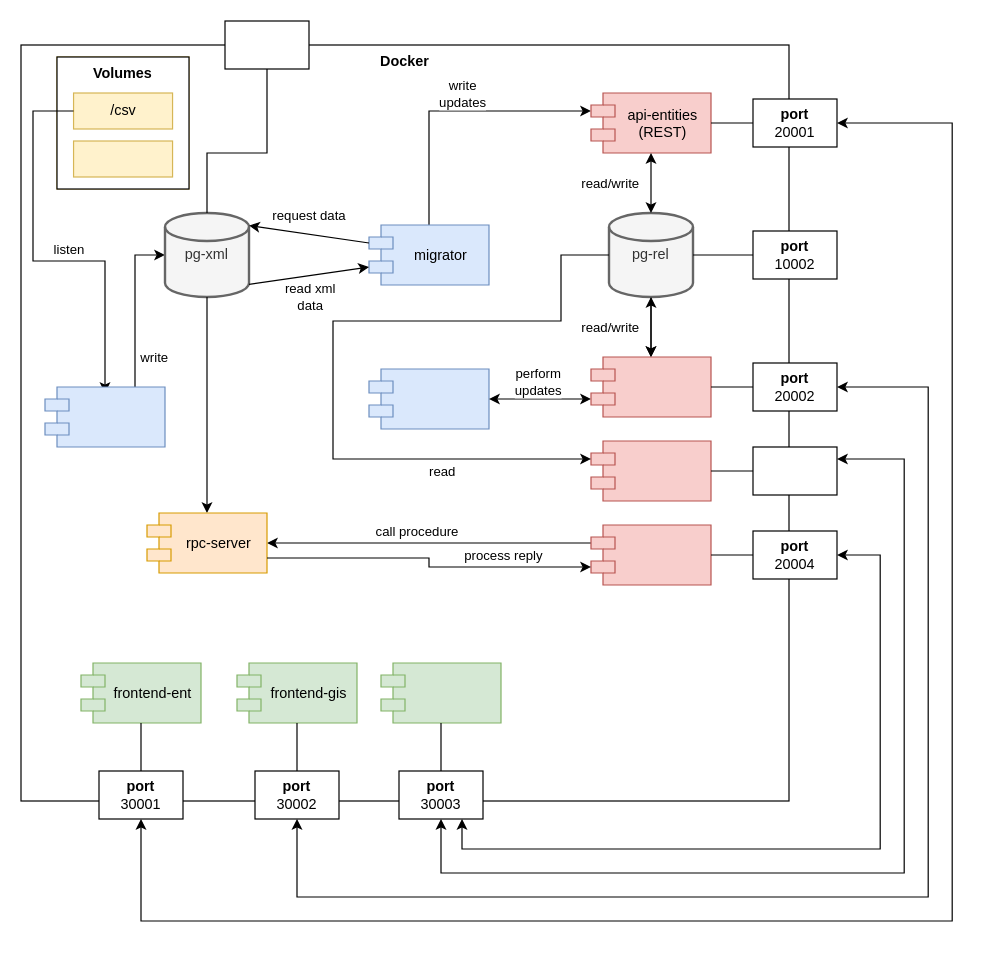
This 984x953 diagram has some shape labels left out. Each missing label, with the centre of its shape:
"/shared" belongs at [122,158].
"api-gis (REST)" belongs at [650,386].
"api-graphql (GraphQL)" belongs at [650,470].
"api-proc (REST)" belongs at [650,554].
"frontend-proc" belongs at [440,692].
"gis-updater" belongs at [428,398].
"importer" belongs at [104,416].
"port 10001" belongs at [266,44].
"port 20003" belongs at [794,470].
